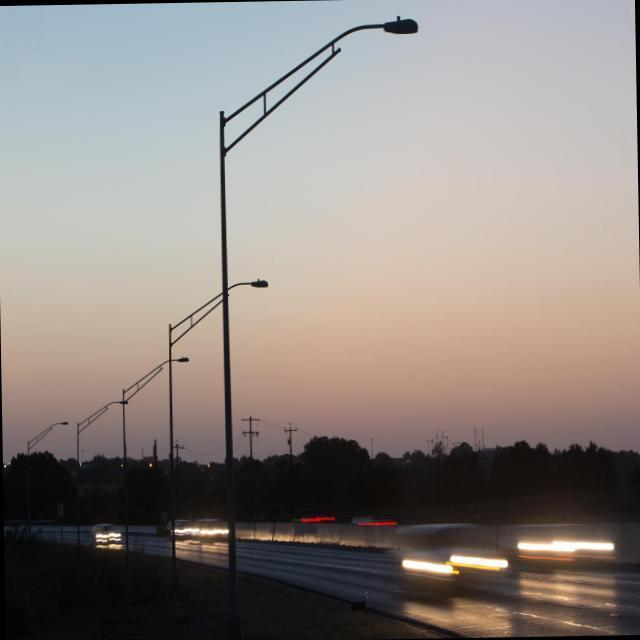off: (175, 20, 474, 156), (148, 285, 296, 380)
